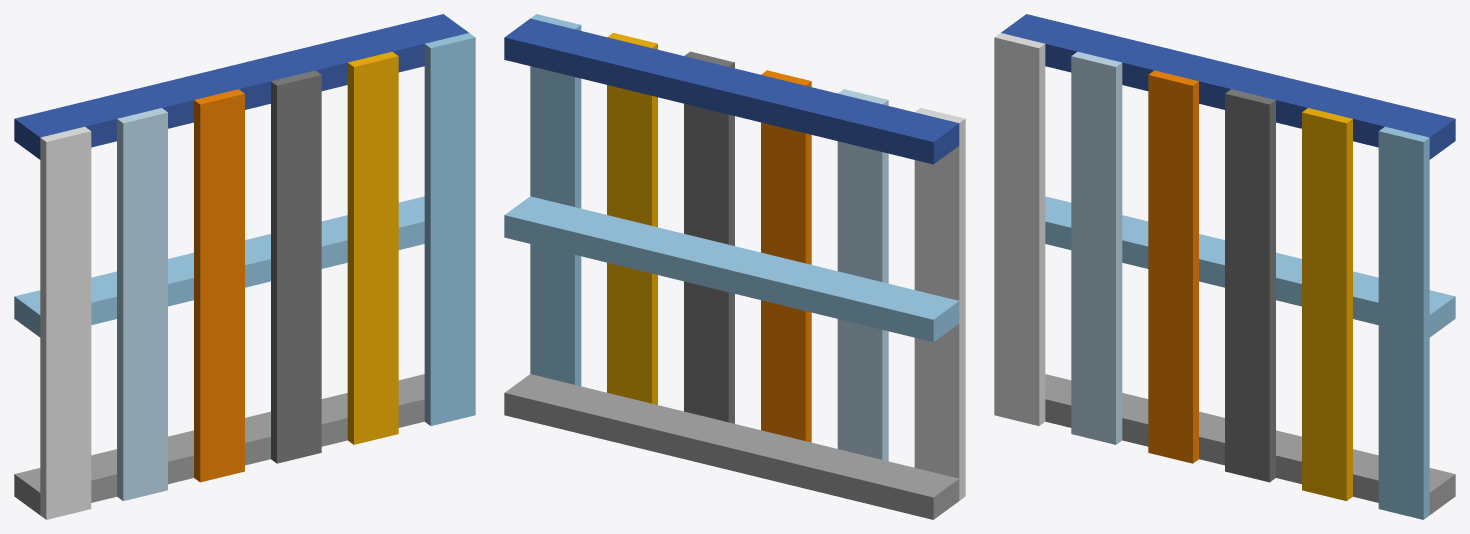
The model's file is pallet1.obj.
The picture shows the model from 3 angles, left to right: view 1: azimuth 30°, elevation 25°; view 2: azimuth 150°, elevation 25°; view 3: azimuth 330°, elevation 25°; orthographic projection.
Parts seen in each view (by area): view 1: mesh5, mesh35, mesh17, mesh23, mesh11, mesh29, mesh39, mesh48, mesh42, mesh36, mesh49, mesh43 (+9 smaller); view 2: mesh33, mesh27, mesh3, mesh9, mesh15, mesh21, mesh42, mesh48, mesh39, mesh38, mesh45, mesh51 (+9 smaller); view 3: mesh5, mesh35, mesh17, mesh23, mesh11, mesh29, mesh39, mesh48, mesh42, mesh36, mesh49, mesh43 (+9 smaller).
Boxes of the visible parts, x1,y1,x2,y2 form: mesh5: (430, 37, 475, 425); mesh35: (46, 131, 91, 519); mesh17: (277, 75, 321, 463); mesh23: (200, 93, 244, 482); mesh11: (354, 56, 398, 444); mesh29: (123, 112, 167, 500); mesh39: (15, 14, 468, 137); mesh48: (15, 374, 424, 492); mesh42: (15, 196, 424, 314); mesh36: (85, 44, 424, 147); mesh49: (91, 399, 424, 502); mesh43: (91, 221, 424, 324); mesh33: (914, 146, 959, 478); mesh27: (837, 141, 882, 459); mesh3: (530, 66, 574, 384); mesh9: (607, 85, 651, 403); mesh15: (684, 103, 728, 422); mesh21: (761, 122, 805, 440); mesh42: (505, 196, 958, 319); mesh48: (505, 374, 958, 497); mesh39: (505, 18, 958, 141); mesh38: (504, 37, 933, 164); mesh45: (504, 215, 933, 342); mesh51: (504, 393, 933, 519); mesh5: (1378, 131, 1423, 519); mesh35: (994, 37, 1039, 425); mesh17: (1225, 93, 1269, 482); mesh23: (1148, 75, 1192, 463); mesh11: (1302, 112, 1346, 500); mesh29: (1071, 56, 1115, 444); mesh39: (1001, 14, 1454, 137); mesh48: (1045, 374, 1454, 492); mesh42: (1045, 196, 1454, 314); mesh36: (1045, 44, 1384, 147); mesh49: (1045, 399, 1378, 502); mesh43: (1045, 221, 1378, 324).
Size of the model in its own units: 0.24 by 0.202 by 0.031.
